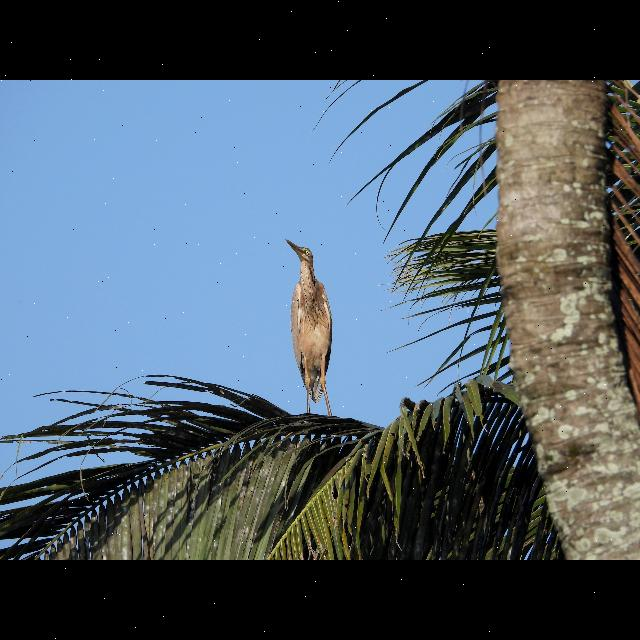heron: (278, 231, 350, 421)
